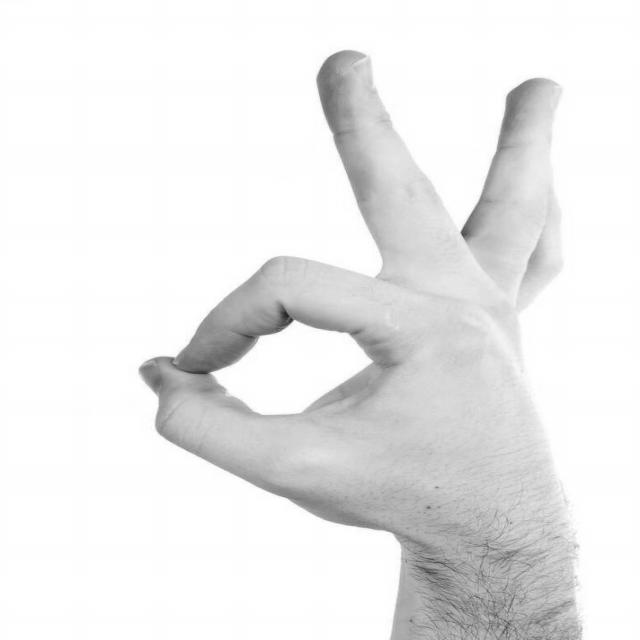perfect: (121, 38, 600, 559)
